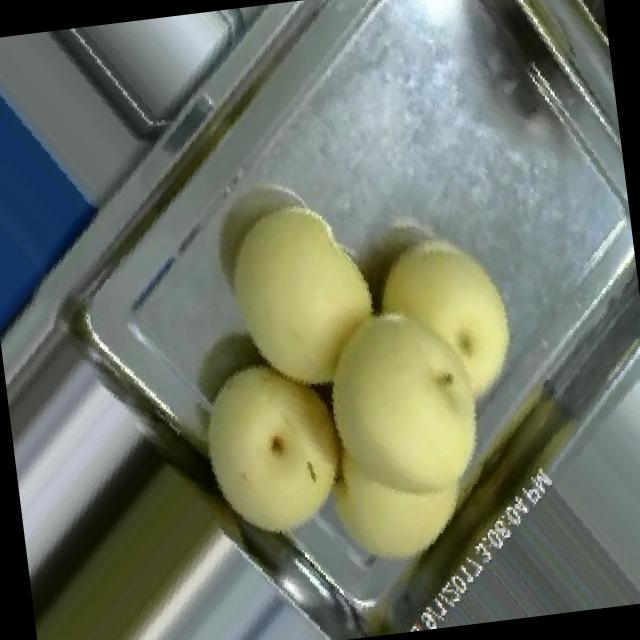Fruit: (272, 206, 562, 594), (161, 328, 381, 578), (198, 178, 404, 412)
